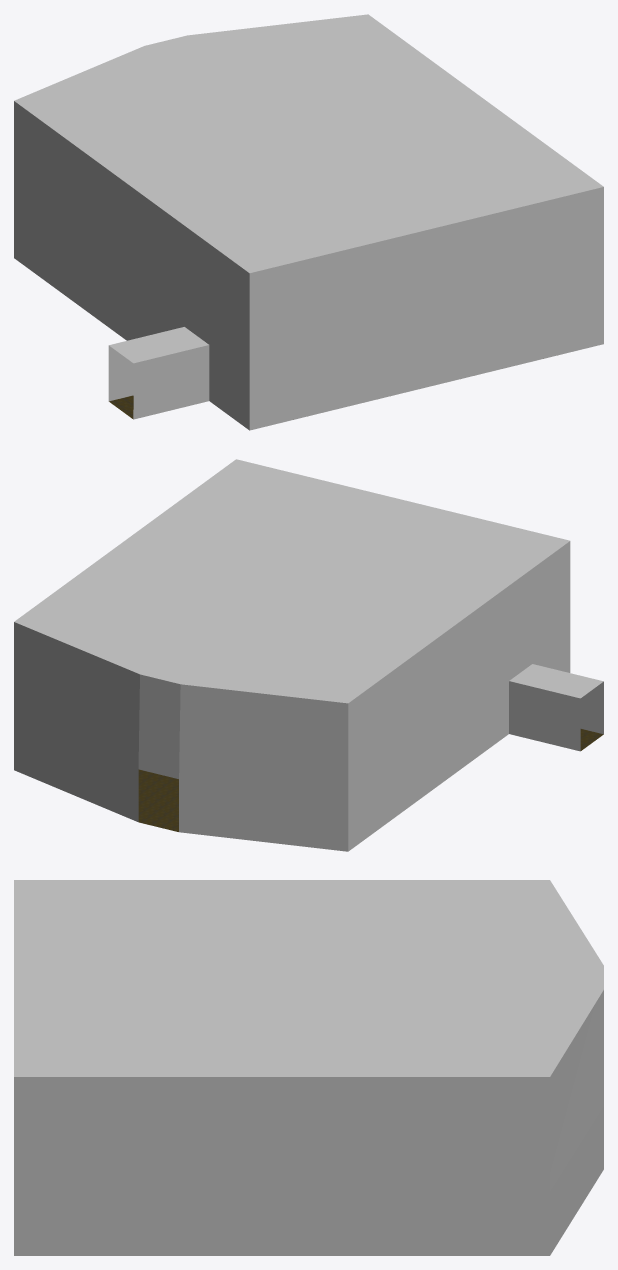
The model's file is Room2.fbx.
3 views of the same model, one above another, from view 1: azimuth 30°, elevation 25°; view 2: azimuth 150°, elevation 25°; view 3: azimuth 270°, elevation 25° (orthographic). The views are drawn at different scales.
Visible parts, largest first — view 1: WallIrregular_1; view 2: WallIrregular_1, FloorIrregular_1; view 3: WallIrregular_1.
Boxes of the visible parts, left/top/right/bottom form: WallIrregular_1: left=14, top=14, right=603, bottom=430; WallIrregular_1: left=14, top=459, right=603, bottom=851; FloorIrregular_1: left=138, top=729, right=603, bottom=831; WallIrregular_1: left=14, top=880, right=603, bottom=1255.
Size of the model in its own units: 4006 by 1400 by 4182.
